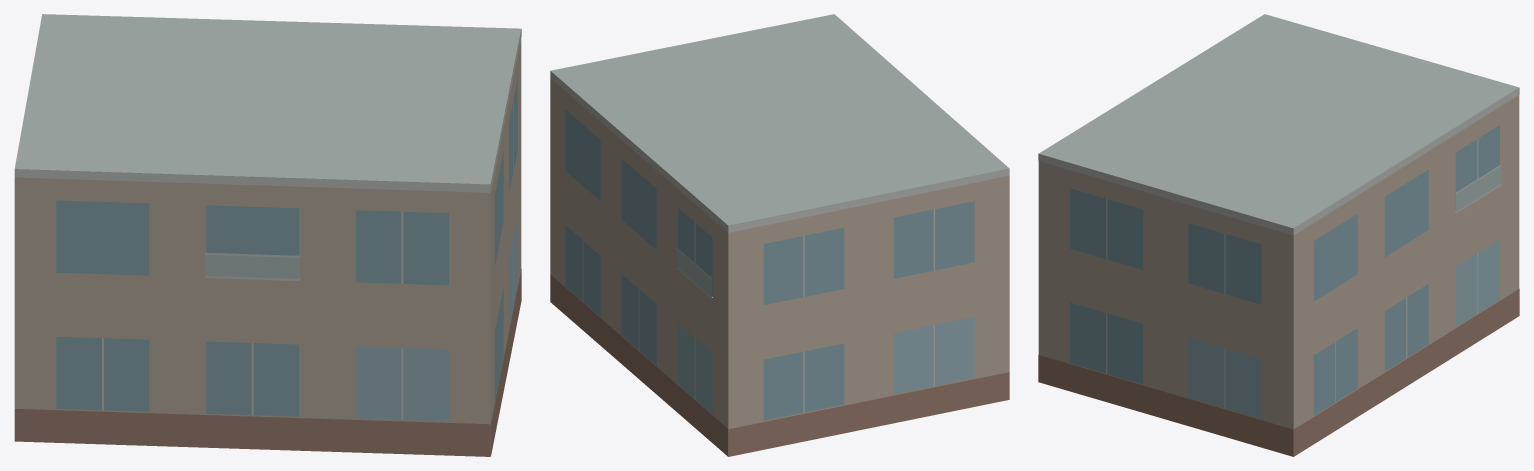
Rendered from survey-upis-32701422.glb.
3 renders of one model, left to right at view 1: azimuth 30°, elevation 25°; view 2: azimuth 150°, elevation 25°; view 3: azimuth 270°, elevation 25°, orthographic. The views are drawn at different scales.
Visible parts, largest first — view 1: survey-upis-32701422.tmp; view 2: survey-upis-32701422.tmp; view 3: survey-upis-32701422.tmp.
Part boxes in pixels (left/top/right/bottom): survey-upis-32701422.tmp: left=14, top=14, right=521, bottom=456; survey-upis-32701422.tmp: left=550, top=14, right=1009, bottom=456; survey-upis-32701422.tmp: left=1038, top=14, right=1519, bottom=456.
Bounding box in the file's own units: 15.81 × 7.85 × 14.99.
